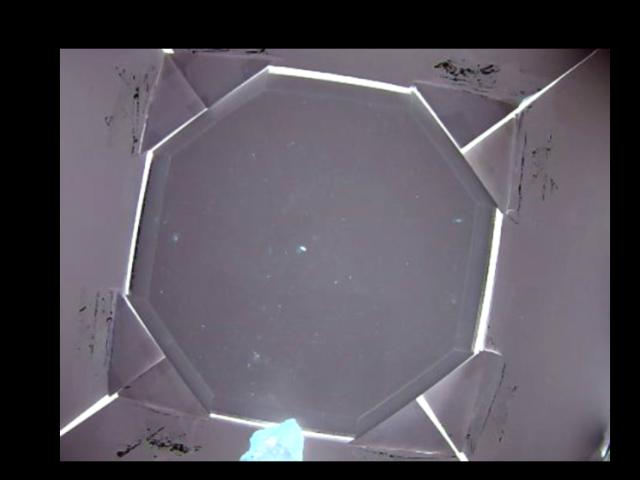Brisk: (236, 417, 304, 461)
